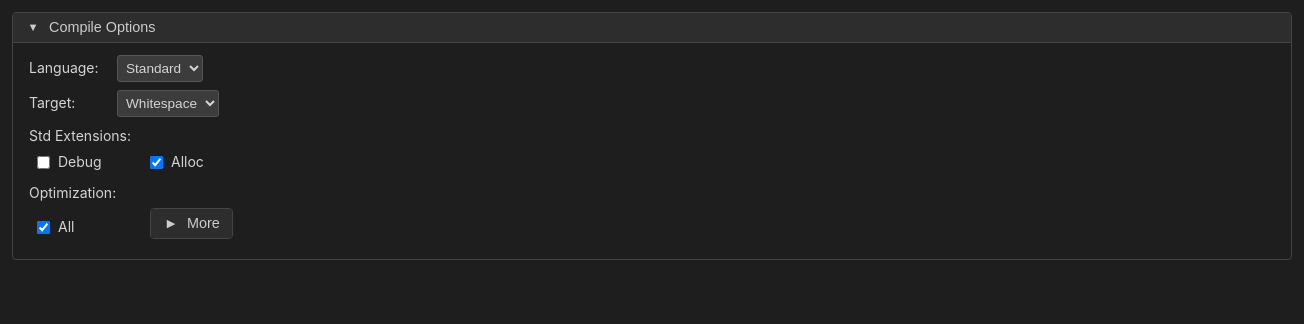
Test: CompileOptions › Opt Passes › optPassOptions チェックボックスが表示される
The width and height of the screenshot is (1304, 324).
Expected: the checkbox labelled "All" is shown, 37,221 -> 50,234
// 'all' 以外は More セクション内に入るため、展開してから確認
Click the button "▶ More". click: (191, 223)
box: 151,209 -> 232,238
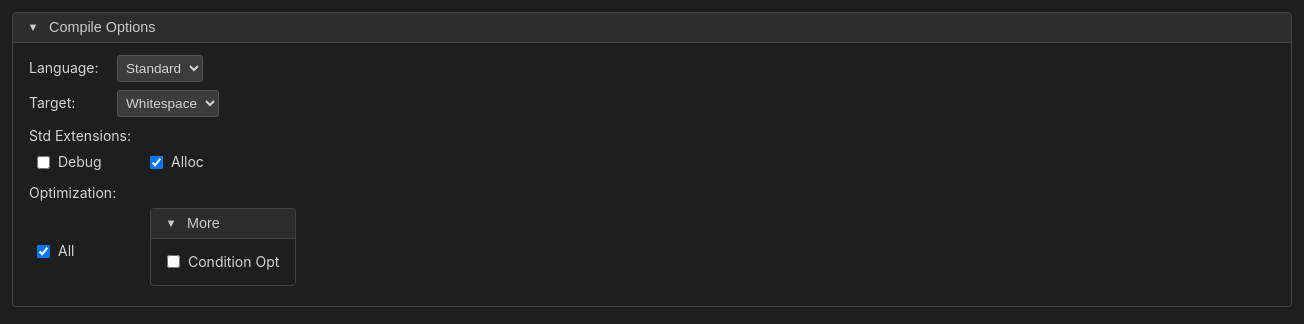
Now the checkbox labelled "Condition Opt" is shown, box 167,255 -> 180,268
